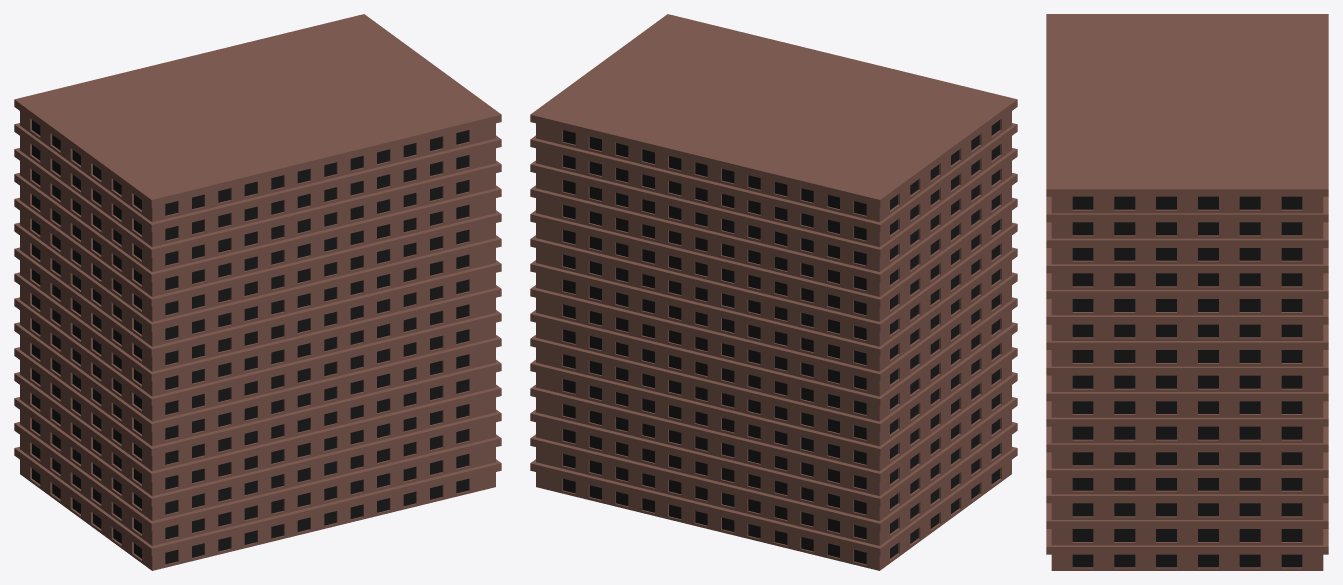
Rendered from building1.obj.
The picture shows the model from 3 angles, left to right: view 1: azimuth 30°, elevation 25°; view 2: azimuth 150°, elevation 25°; view 3: azimuth 270°, elevation 25°; orthographic projection. The views are drawn at different scales.
Parts seen in each view (by area): view 1: Plane; view 2: Plane; view 3: Plane.
Boxes of the visible parts, x1=… form: Plane: x1=14, y1=14, x2=501, y2=570; Plane: x1=530, y1=14, x2=1017, y2=570; Plane: x1=1046, y1=14, x2=1328, y2=570.
Bounding box in the file's own units: 76.34 × 77.85 × 51.94.
Materials: 1 (1 with a texture image).
